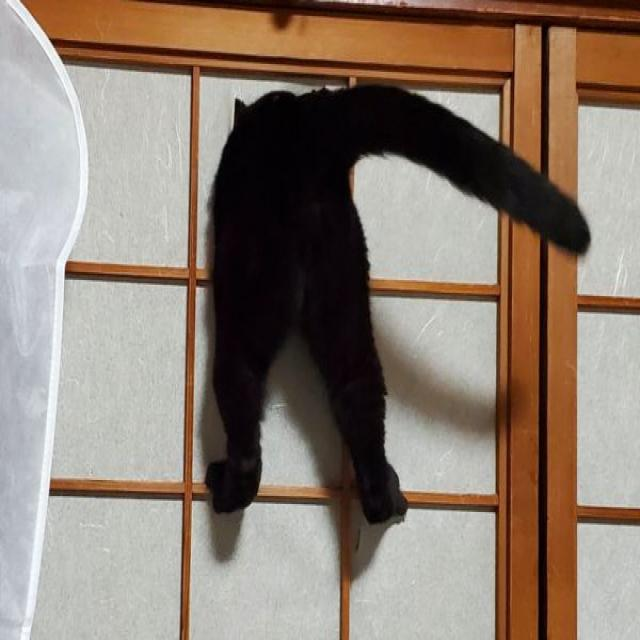black cat: (134, 0, 594, 565)
